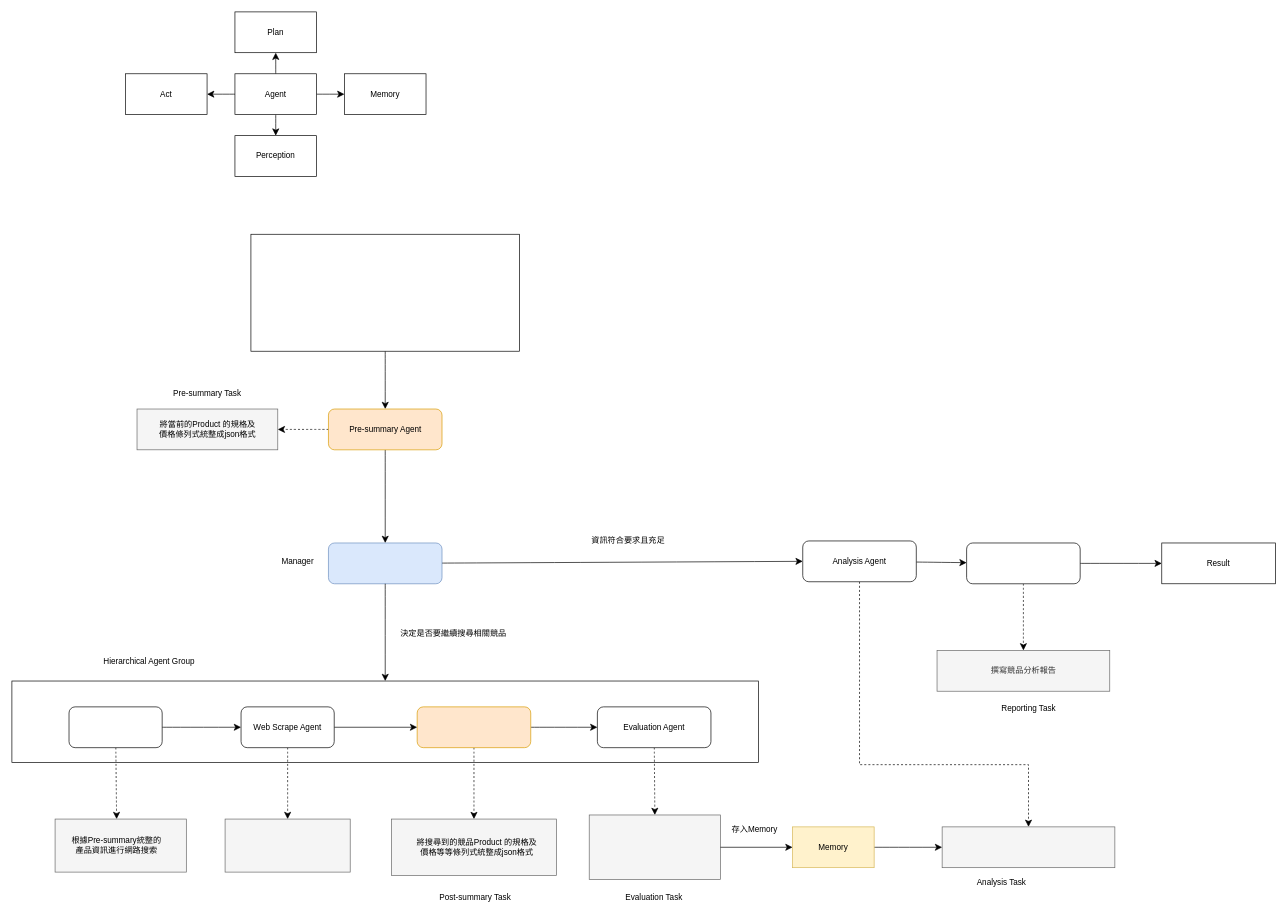
This 1287x919 diagram has some shape labels left out. Here are the shapes that lost their labels. From the top down, the centre of each, then its label:
[385,292]: Product（商品）競品 1. 規格 2. 價格
[385,563]: Search Supervisor Agent
[1023,563]: Reporting Agent
[115,727]: Web Search Agent
[474,727]: Post-summary Agent
[287,845]: 根據網路搜索到的網頁進行網頁爬取
[654,847]: 1. 評估競品資訊是否符合要求 2.評估競品資訊是否充足 3. 將整理好的資訊存到memory裡
[1028,847]: 拿Memory存到的競品資訊進行競品分析
